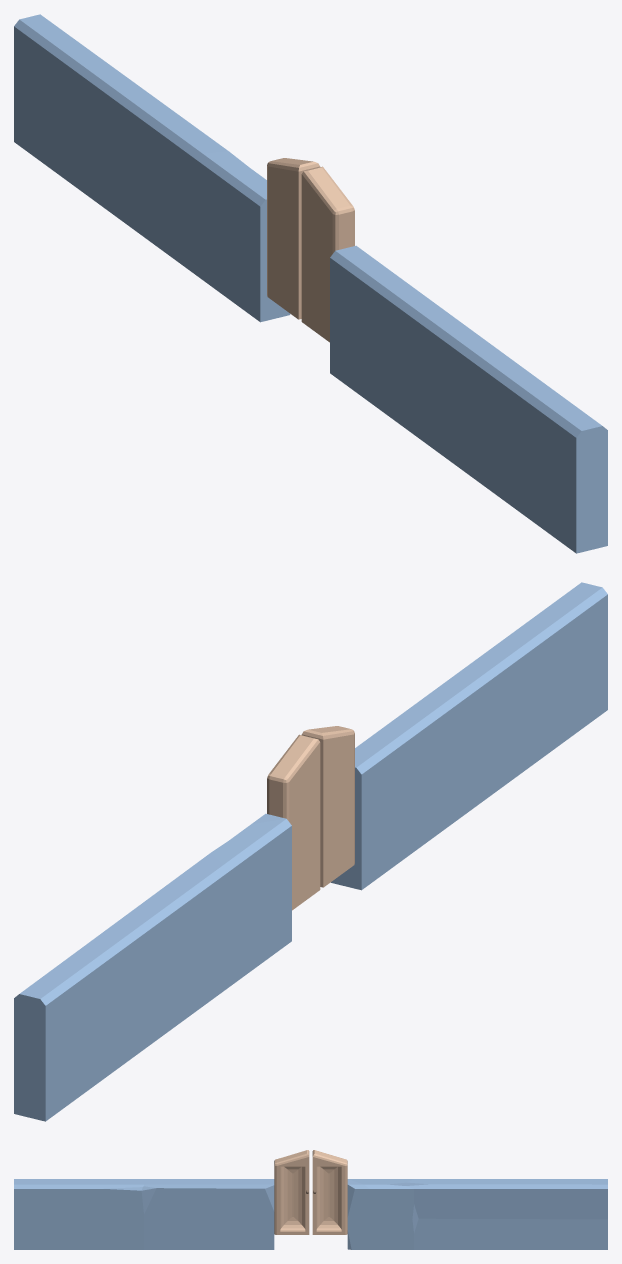
The model's file is GECIT_KAPI.fbx.
3 views of the same model, one above another, from view 1: azimuth 30°, elevation 25°; view 2: azimuth 150°, elevation 25°; view 3: azimuth 270°, elevation 25° (orthographic). The views are drawn at different scales.
Parts seen in each view (by area): view 1: duvar, kapı_1, Cube.001; view 2: duvar, Cube.001, kapı_1; view 3: duvar, kapı_1, Cube.001.
Part boxes in pixels (x1=…): duvar: x1=14, y1=14, x2=607, y2=553; kapı_1: x1=301, y1=166, x2=354, y2=342; Cube.001: x1=267, y1=158, x2=320, y2=319; duvar: x1=14, y1=582, x2=607, y2=1121; Cube.001: x1=267, y1=734, x2=320, y2=910; kapı_1: x1=301, y1=726, x2=354, y2=887; duvar: x1=14, y1=1179, x2=607, y2=1249; kapı_1: x1=274, y1=1150, x2=309, y2=1234; Cube.001: x1=312, y1=1150, x2=347, y2=1234.
Bounding box in the file's own units: 126 × 678 × 3886.
